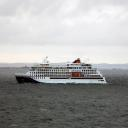cruises: (15, 54, 108, 88)
